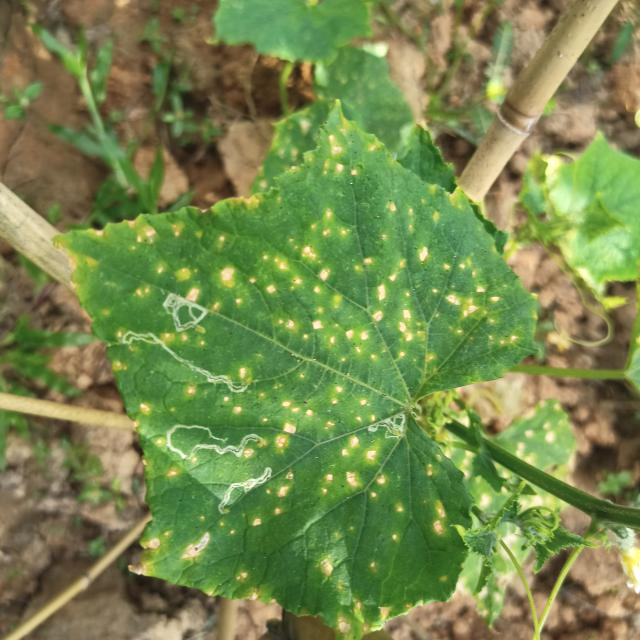disease_cucumber: (106, 132, 509, 384), (312, 433, 405, 541), (275, 384, 375, 460), (318, 555, 396, 639), (142, 517, 232, 560), (254, 471, 298, 531), (180, 383, 248, 415), (237, 569, 279, 604), (429, 494, 450, 542)
